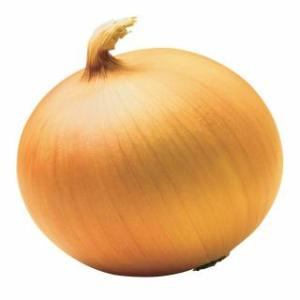onion: (14, 19, 284, 278)
